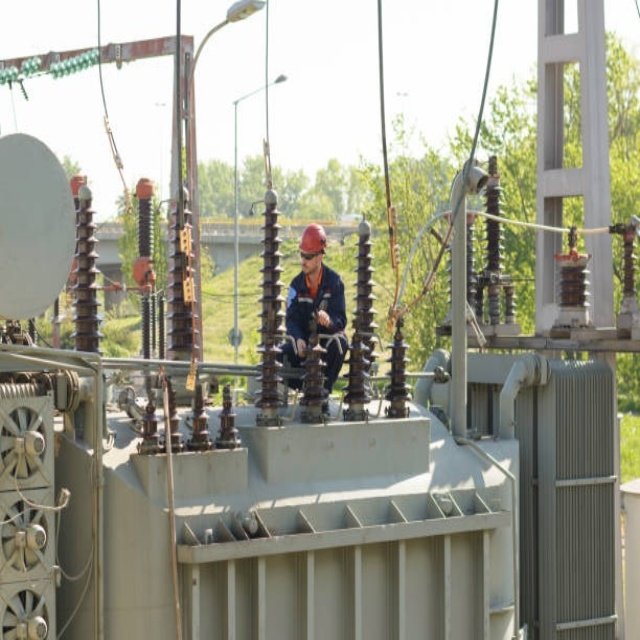Gafas: (300, 250, 322, 260)
Sin_guantes: (315, 309, 330, 326)
